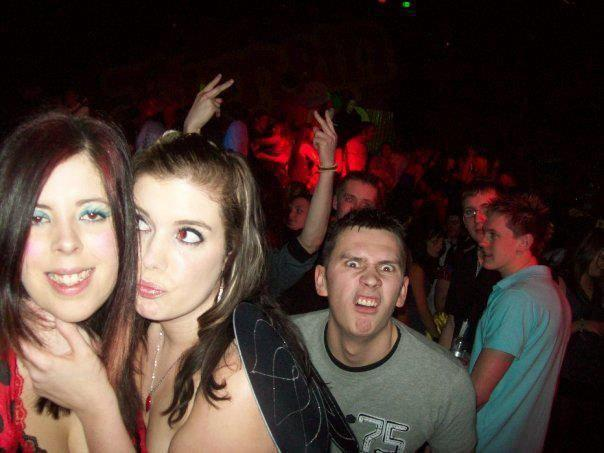Drunk: (12, 165, 116, 318), (128, 171, 219, 322), (332, 228, 401, 336)
